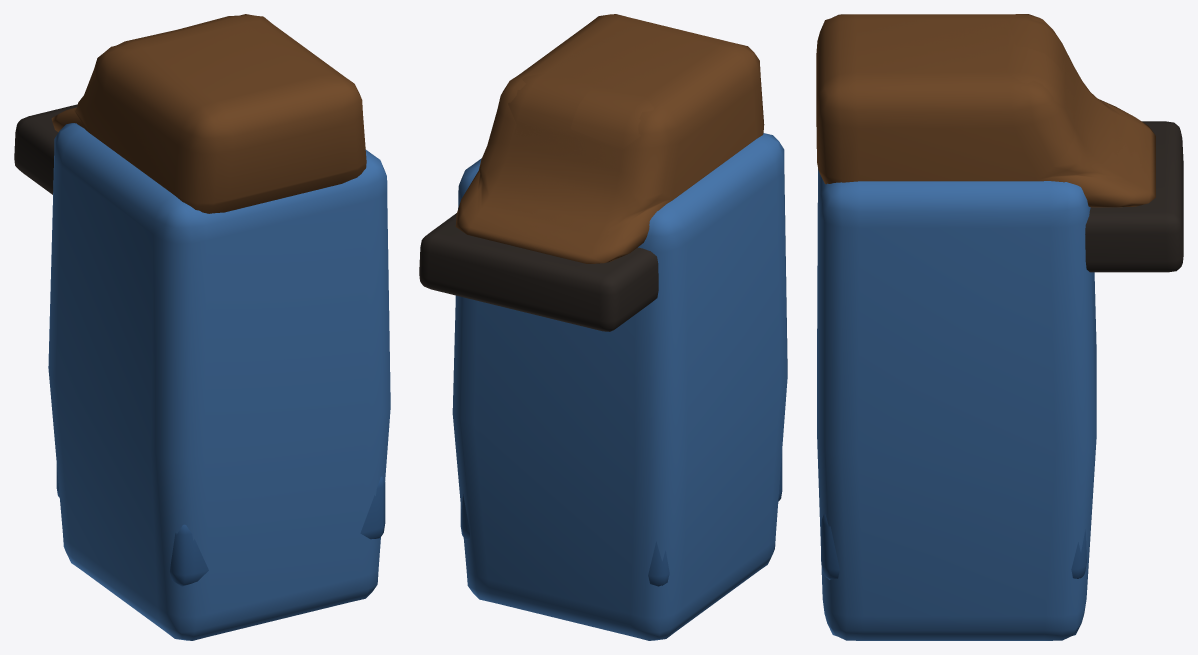
File: legs-farmer.glb
3 renders of one model, left to right at view 1: azimuth 30°, elevation 25°; view 2: azimuth 150°, elevation 25°; view 3: azimuth 270°, elevation 25°, orthographic. The views are drawn at different scales.
Visible parts, largest first — view 1: thighL__denim, thighR__denim, ankleL__boot, ankleR__boot, kneeL__hem, ankleL__sole, ankleR__sole, kneeR__hem; view 2: thighL__denim, ankleL__boot, ankleR__boot, ankleL__sole, thighR__denim, ankleR__sole, kneeL__hem; view 3: thighR__denim, ankleL__boot, ankleR__boot, ankleL__sole, ankleR__sole, kneeL__hem, kneeR__hem.
Boxes of the visible parts, <box> form: thighL__denim: <box>48,123,369,640</box>; thighR__denim: <box>197,149,390,638</box>; ankleL__boot: <box>51,15,366,213</box>; ankleR__boot: <box>52,14,366,212</box>; kneeL__hem: <box>56,464,385,586</box>; ankleL__sole: <box>14,104,77,194</box>; ankleR__sole: <box>17,106,76,193</box>; kneeR__hem: <box>57,477,385,585</box>; thighL__denim: <box>478,133,787,640</box>; ankleL__boot: <box>455,14,763,263</box>; ankleR__boot: <box>456,14,764,262</box>; ankleL__sole: <box>419,213,658,331</box>; thighR__denim: <box>452,158,641,638</box>; ankleR__sole: <box>419,218,658,331</box>; kneeL__hem: <box>460,450,782,586</box>; thighR__denim: <box>817,168,1096,640</box>; ankleL__boot: <box>816,14,1155,207</box>; ankleR__boot: <box>816,14,1155,206</box>; ankleL__sole: <box>1085,121,1183,272</box>; ankleR__sole: <box>1085,123,1183,272</box>; kneeL__hem: <box>821,513,1086,579</box>; kneeR__hem: <box>822,515,1086,579</box>.
Bounding box in the file's own units: 0.204 × 0.445 × 0.2681.
